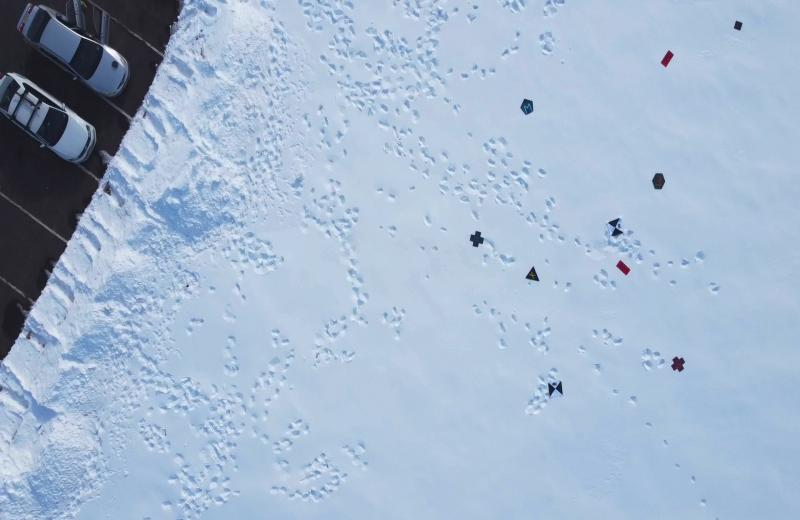Cross: (467, 230, 484, 248), (670, 354, 686, 372)
Hexagon: (650, 173, 666, 192)
Pentagon: (518, 97, 535, 117)
Rectangle: (616, 259, 632, 279), (659, 50, 676, 67)
Square: (732, 20, 746, 34)
Triangle: (526, 264, 542, 285)
